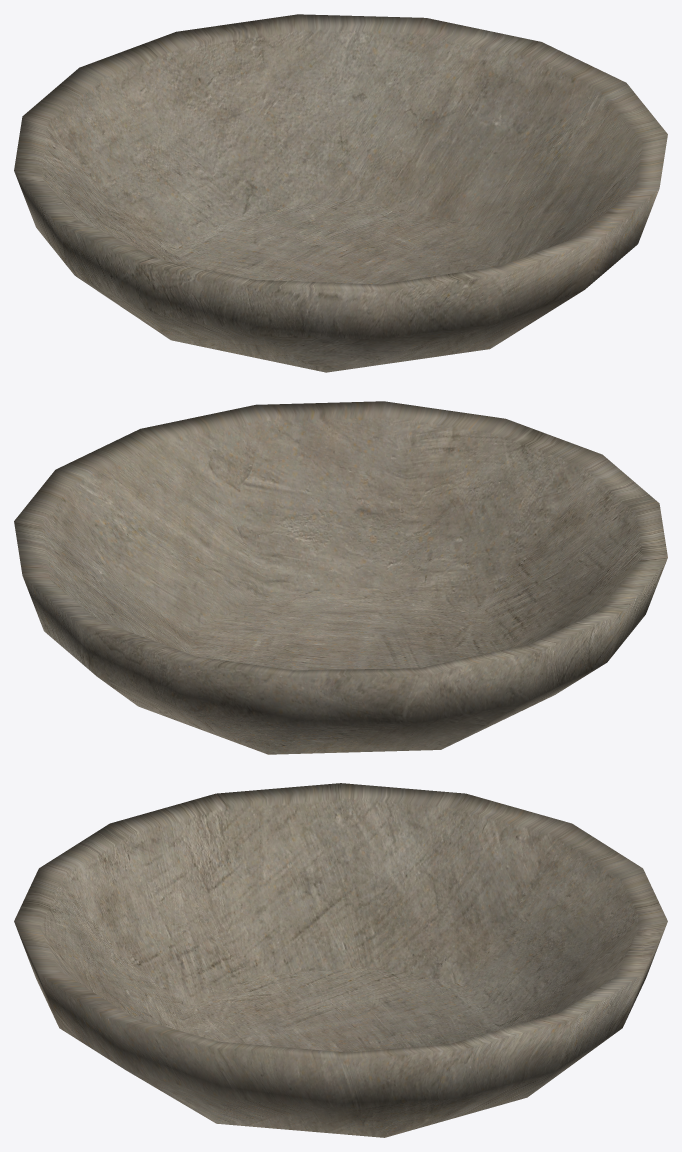
Rendered from Plate.FBX.
3 views of the same model, one above another, from view 1: azimuth 30°, elevation 25°; view 2: azimuth 150°, elevation 25°; view 3: azimuth 270°, elevation 25° (orthographic).
Parts seen in each view (by area): view 1: mesh; view 2: mesh; view 3: mesh.
Part boxes in pixels (box(x1,y1,x2,y2)): mesh: box(14, 14, 667, 372); mesh: box(14, 401, 667, 754); mesh: box(14, 783, 667, 1137).
Bounding box in the file's own units: 28.31 × 28.31 × 5.91.
